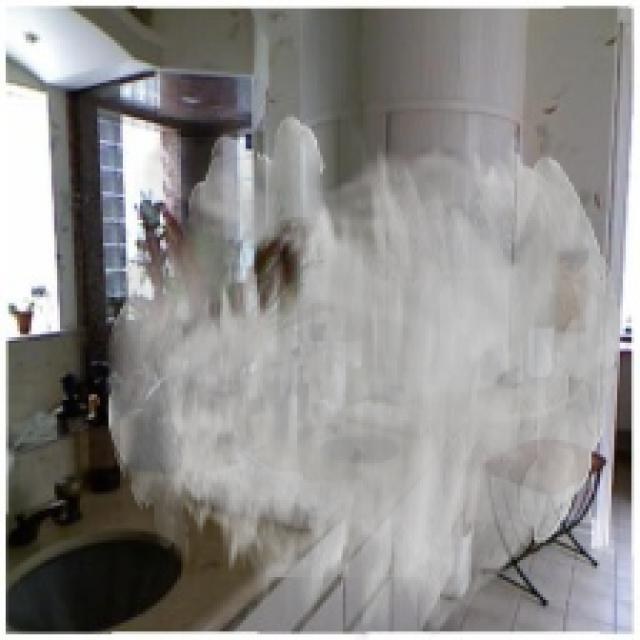smoke: (106, 114, 623, 637)
